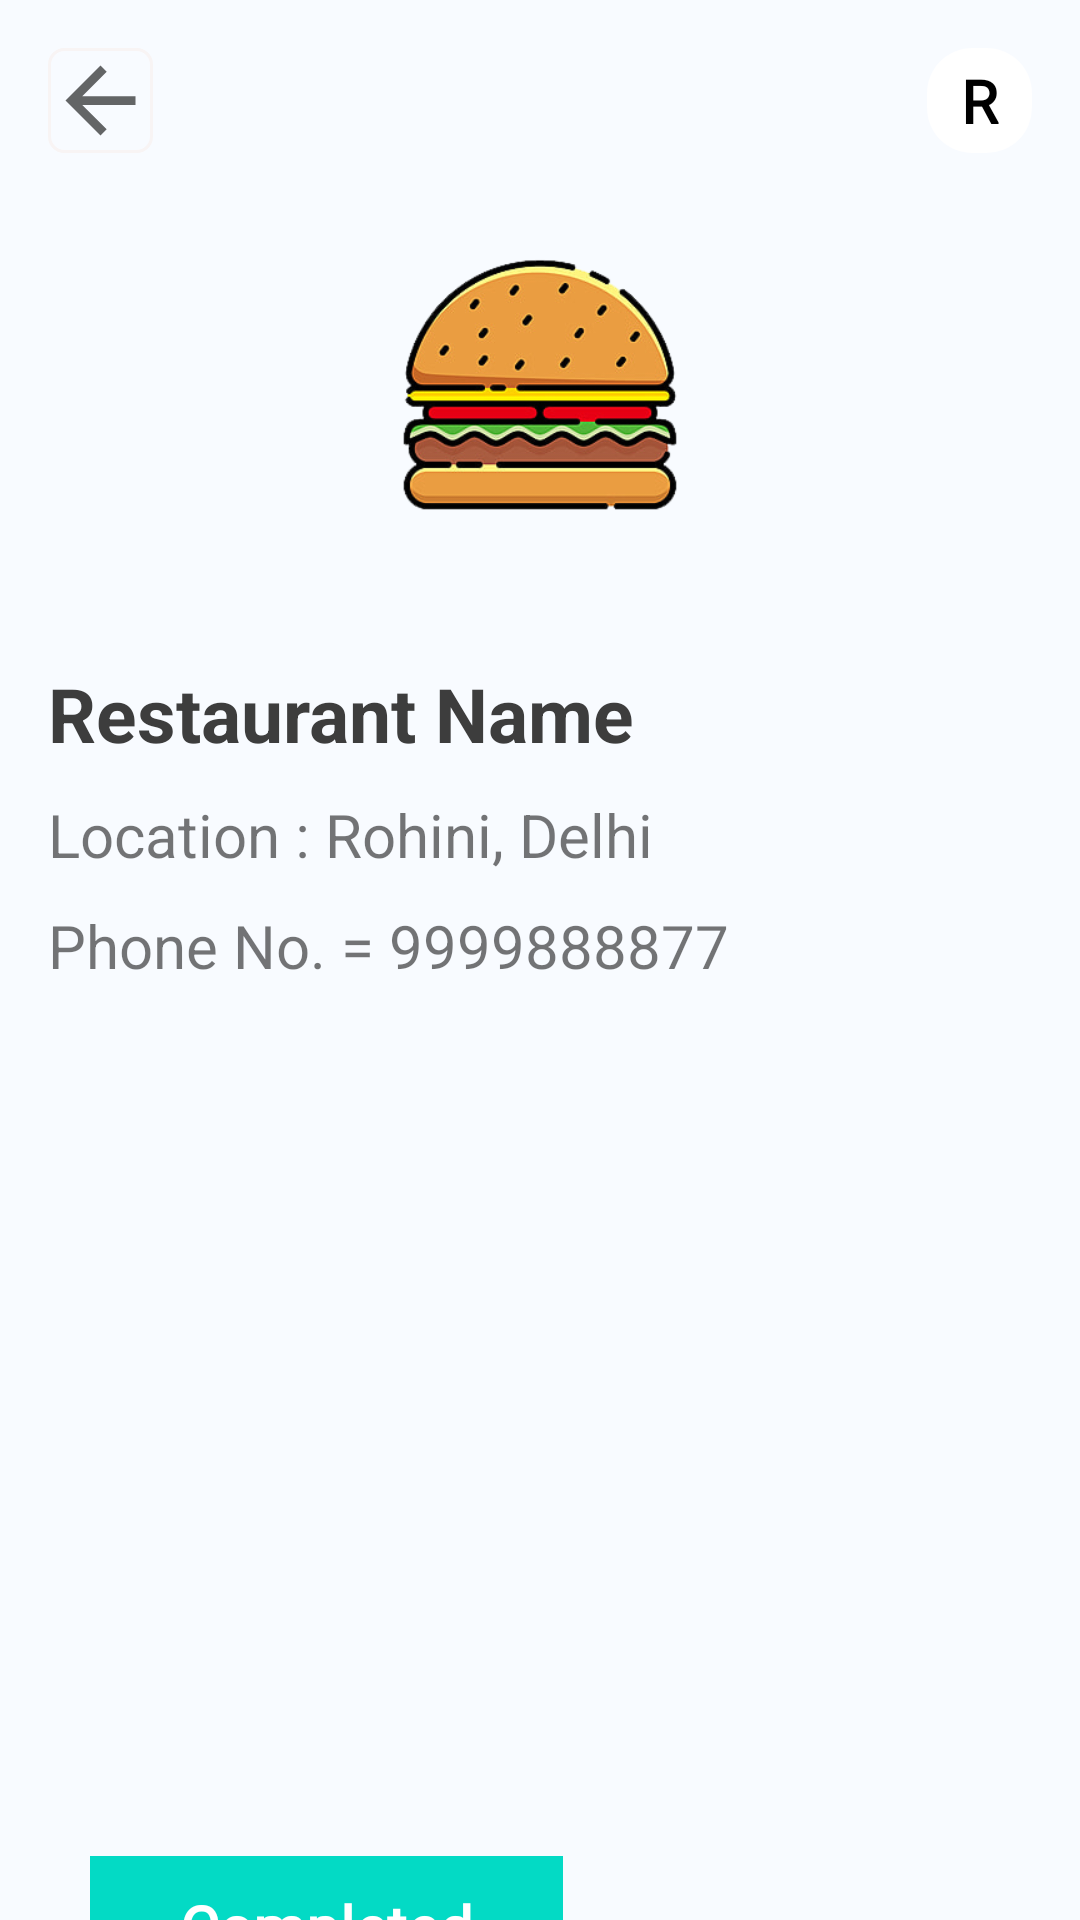

Locate icon controls on the screen. Image size 1080px×1920px, boxes as (x1, y1, x2, y2).
arrow back: (65, 65, 136, 136)
burgerlisting: (403, 260, 677, 510)
